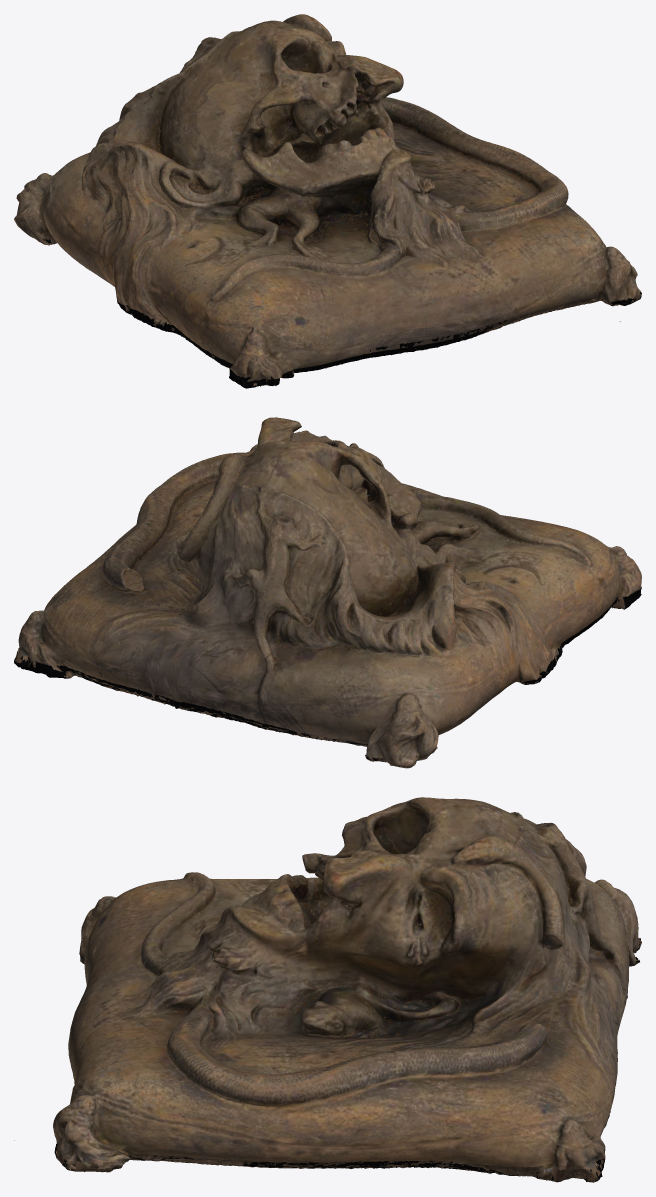
File: preview.glb
3 views of the same model, one above another, from view 1: azimuth 30°, elevation 25°; view 2: azimuth 150°, elevation 25°; view 3: azimuth 270°, elevation 25° (orthographic). The views are drawn at different scales.
Parts seen in each view (by area): view 1: Object_2; view 2: Object_2; view 3: Object_2.
Part boxes in pixels (x1=…): Object_2: x1=14, y1=14, x2=641, y2=388; Object_2: x1=14, y1=417, x2=641, y2=768; Object_2: x1=14, y1=797, x2=641, y2=1182.
Bounding box in the file's own units: 6.87 × 3.45 × 7.55.
Materials: 1 (1 with a texture image).
